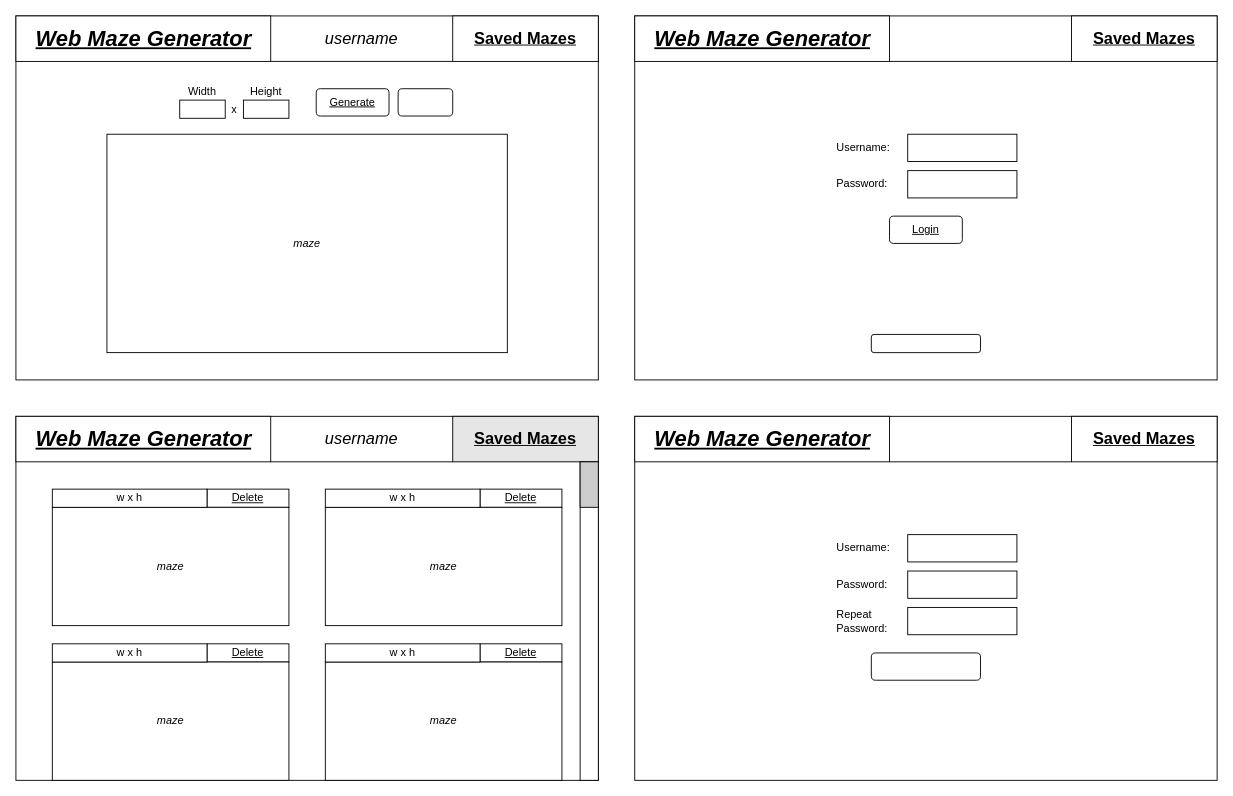
Some shapes in this 1233 by 796 pixel diagram are drawn without their labels. The box of each missing label's shape, as (x1, y1, x2, y2) in pixels:
Create Account: (870, 652, 981, 680)
Create an account: (870, 334, 981, 353)
Save: (397, 88, 453, 116)
